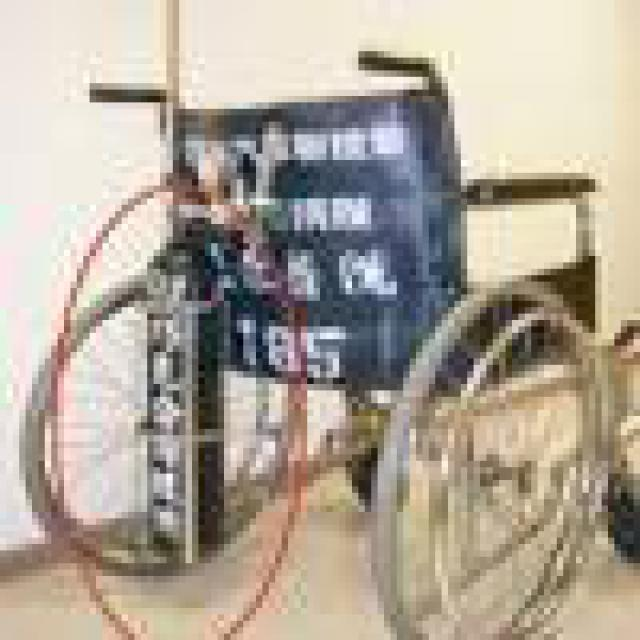wheelchair: (12, 26, 634, 634)
